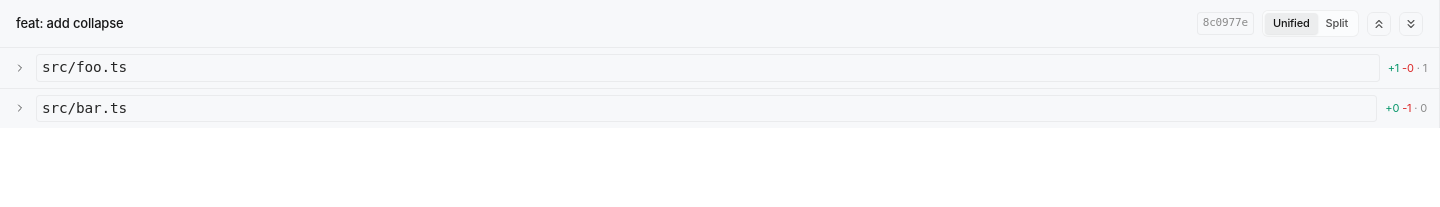
it: DiffTextView › expands all files when "Expand All" is clicked
What coordinates should you click on to do the following:
click the button with test id "diff-expand-all"
I would click on:
 (1411, 24)
Its box is top-left (1399, 12), bottom-right (1423, 36).
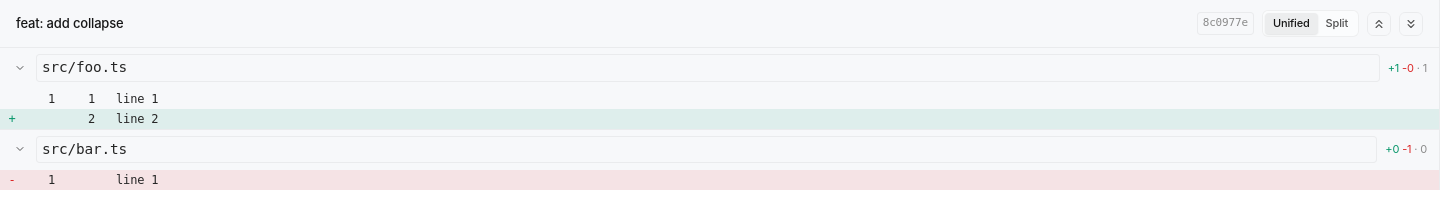
Now the element with test id "diff-line-src/foo.ts-0" is shown, box top-left (48, 92), bottom-right (158, 106)
Now the element with test id "diff-line-src/bar.ts-0" is shown, box top-left (0, 170), bottom-right (1439, 190)
